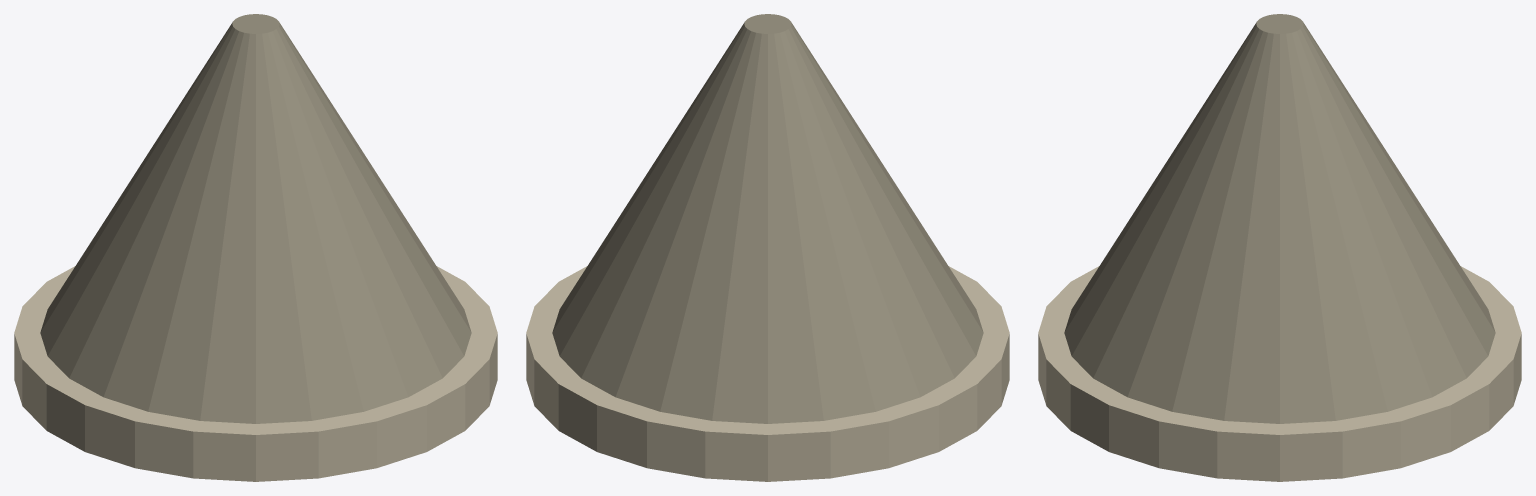
The model's file is towerTopRoof.glb.
3 views of the same model, side by side, from view 1: azimuth 30°, elevation 25°; view 2: azimuth 150°, elevation 25°; view 3: azimuth 270°, elevation 25° (orthographic).
Parts seen in each view (by area): view 1: mesh_1, mesh_0; view 2: mesh_1, mesh_0; view 3: mesh_1, mesh_0.
Boxes of the visible parts, left/top/right/bottom form: mesh_1: left=40, top=14, right=471, bottom=423; mesh_0: left=14, top=266, right=497, bottom=481; mesh_1: left=552, top=14, right=983, bottom=423; mesh_0: left=526, top=266, right=1009, bottom=481; mesh_1: left=1064, top=14, right=1495, bottom=423; mesh_0: left=1038, top=266, right=1521, bottom=481.
Bounding box in the file's own units: 11.21 × 9.1 × 11.21.
